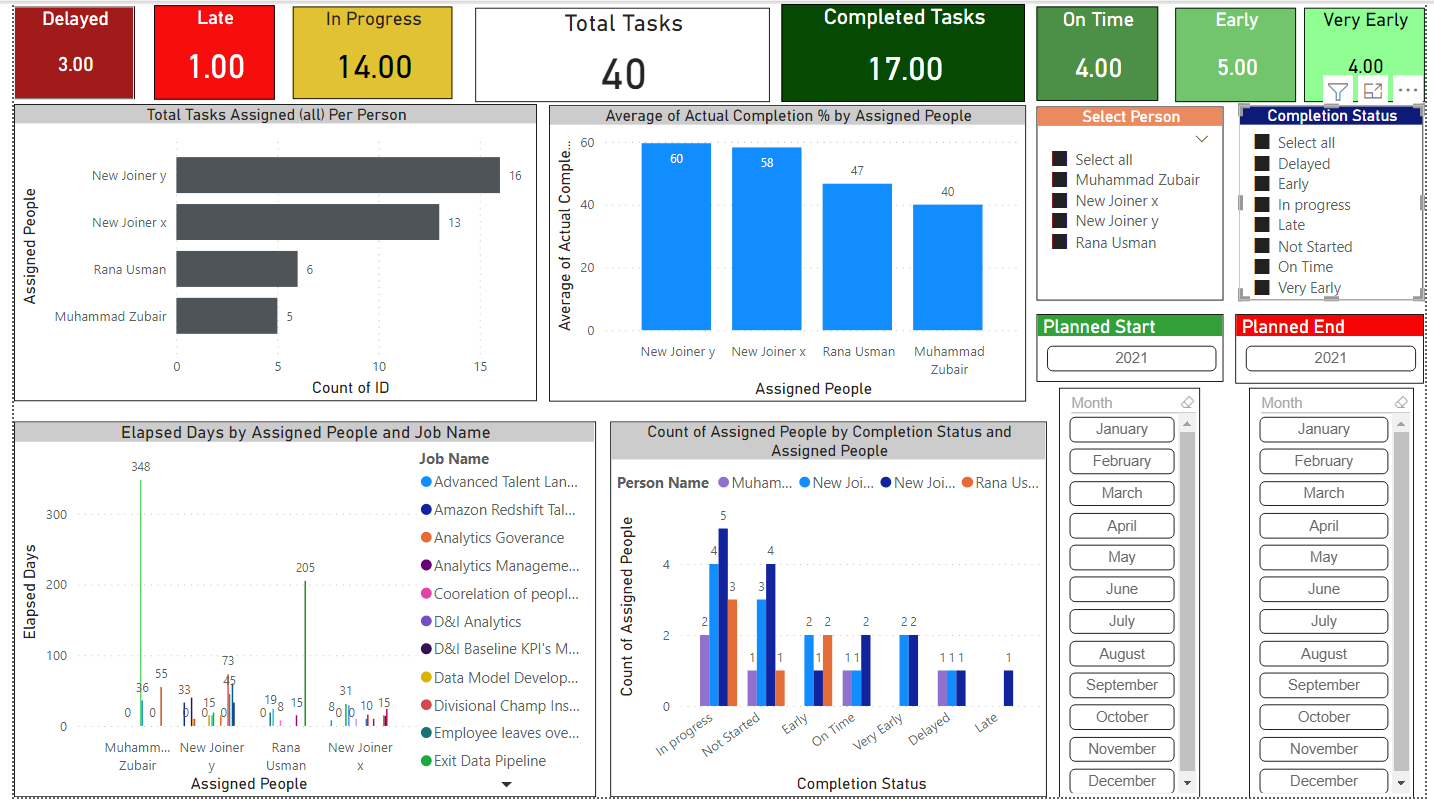

The page's visual inventory and layout, read from the dashboard file:
{"tool":"powerbi","page":{"name":"People Insights","canvas":[1280,720],"ordinal":1},"visuals":[{"type":"clusteredBarChart","title":"Total Tasks Assigned (all) Per Person","fields":{"Y":["Sheet1.ID"],"Category":["Sheet1.Assigned People"]},"box":[0,90.3,474.2,269.8],"z":0},{"type":"slicer","title":"Select Person","fields":{"Values":["Sheet1.Assigned People"]},"box":[927,92.7,170,175.9],"z":1000},{"type":"clusteredColumnChart","fields":{"Category":["Sheet1.Completion Status"],"Y":["Sheet1.Assigned People"],"Series":["Sheet1.Assigned People"]},"box":[540.8,379.1,395.8,341.1],"z":2000},{"type":"card","title":"Total Tasks","fields":{"Values":["Sheet1.ID"]},"box":[418,2.9,267.6,85.3],"z":3000},{"type":"card","title":"Early","fields":{"Values":["Sheet1.Early"]},"box":[1052.9,2.9,109.9,85.3],"z":4000},{"type":"card","title":"Completed Tasks","fields":{"Values":["Sheet1.Is Completed"]},"box":[696.5,0,221.1,89.1],"z":5000},{"type":"card","title":"Delayed","fields":{"Values":["Sheet1.Delayed"]},"box":[0,2.4,109.3,84.4],"z":6000},{"type":"card","title":"In Progress","fields":{"Values":["Sheet1.In Progress"]},"box":[253.1,2.4,145,84.4],"z":7000},{"type":"card","title":"Very Early","fields":{"Values":["Sheet1.Very Early"]},"box":[1170.1,2.9,109.9,85.3],"z":8000},{"type":"card","title":"On Time","fields":{"Values":["Sheet1.On Time"]},"box":[927,2.4,110.5,85.6],"z":9000},{"type":"card","title":"Late","fields":{"Values":["Sheet1.Late"]},"box":[127.3,1.4,109.9,85.3],"z":10000},{"type":"clusteredColumnChart","fields":{"Category":["Sheet1.Assigned People"],"Series":["Sheet1.Job Name"],"Y":["Sheet1.Elapsed Days"]},"box":[0,379.1,527.7,341.1],"z":11000},{"type":"columnChart","fields":{"Category":["Sheet1.Assigned People"],"Y":["Sheet1.Actual Completion %"]},"box":[484.9,91.5,432.6,268.6],"z":12000},{"type":"ChicletSlicer1448559807354","title":"Planned Start","fields":{"Category":["Sheet1.Planned Start Date.Variation.Date Hierarchy.Year"]},"box":[927,281.7,170,61.8],"z":13000},{"type":"ChicletSlicer1448559807354","fields":{"Category":["Sheet1.Planned Start Date.Variation.Date Hierarchy.Month"]},"box":[948.4,348.2,128.4,372],"z":14000},{"type":"ChicletSlicer1448559807354","title":"Planned End","fields":{"Category":["Sheet1.Planned End Date.Variation.Date Hierarchy.Year"]},"box":[1107.7,281.7,171.1,63],"z":15000},{"type":"ChicletSlicer1448559807354","fields":{"Category":["Sheet1.Planned End Date.Variation.Date Hierarchy.Month"]},"box":[1120.7,348.2,149.7,372],"z":16000},{"type":"slicer","title":"Completion Status","fields":{"Values":["Sheet1.Completion Status"]},"box":[1111.2,91.5,167.6,177.1],"z":17000}]}

Visuals, with their boxes in screenshot pixels (x1, y1, x2, y2), scaled from the page's 1280x720 canvas onto the 1434x802 screenshot:
"Total Tasks Assigned (all) Per Person" clusteredBarChart: bbox=[0, 101, 531, 401]
"Select Person" slicer: bbox=[1039, 103, 1229, 299]
clusteredColumnChart - Sheet1.Completion Status x Sheet1.Assigned People: bbox=[606, 422, 1049, 801]
"Total Tasks" card: bbox=[468, 3, 768, 98]
"Early" card: bbox=[1180, 3, 1303, 98]
"Completed Tasks" card: bbox=[780, 0, 1028, 99]
"Delayed" card: bbox=[0, 3, 122, 97]
"In Progress" card: bbox=[284, 3, 446, 97]
"Very Early" card: bbox=[1311, 3, 1433, 98]
"On Time" card: bbox=[1039, 3, 1162, 98]
"Late" card: bbox=[143, 2, 266, 97]
clusteredColumnChart - Sheet1.Assigned People x Sheet1.Job Name: bbox=[0, 422, 591, 801]
columnChart - Sheet1.Assigned People x Sheet1.Actual Completion %: bbox=[543, 102, 1028, 401]
"Planned Start" ChicletSlicer1448559807354: bbox=[1039, 314, 1229, 383]
ChicletSlicer1448559807354 - Sheet1.Planned Start Date.Variation.Date Hierarchy.Month: bbox=[1063, 388, 1206, 801]
"Planned End" ChicletSlicer1448559807354: bbox=[1241, 314, 1433, 384]
ChicletSlicer1448559807354 - Sheet1.Planned End Date.Variation.Date Hierarchy.Month: bbox=[1256, 388, 1423, 801]
"Completion Status" slicer: bbox=[1245, 102, 1433, 299]
